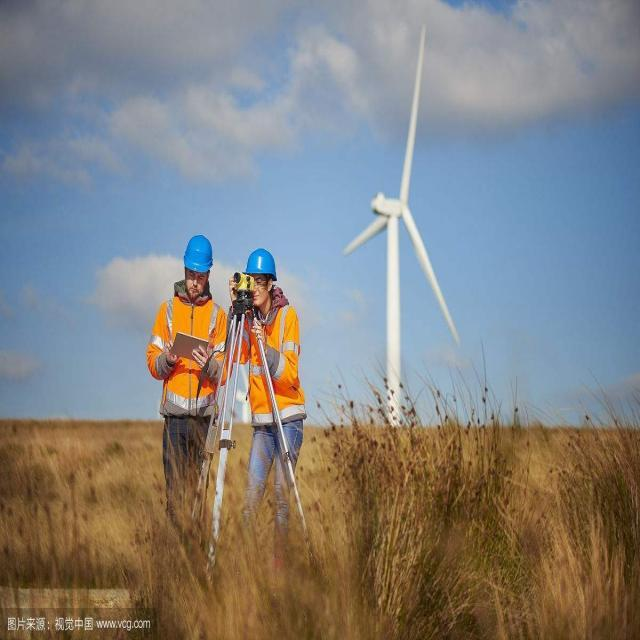helmet: (176, 225, 218, 279), (243, 235, 280, 286)
vest: (162, 289, 222, 422), (243, 291, 303, 422)
